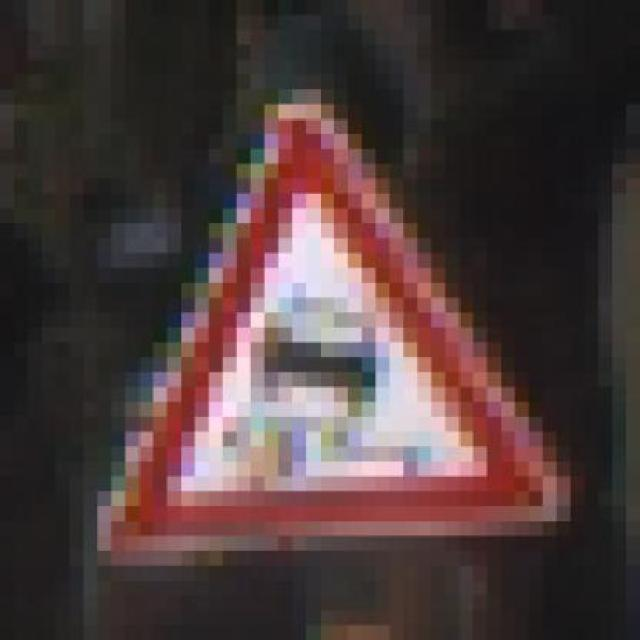Slippery Road Ahead: (56, 82, 572, 573)
